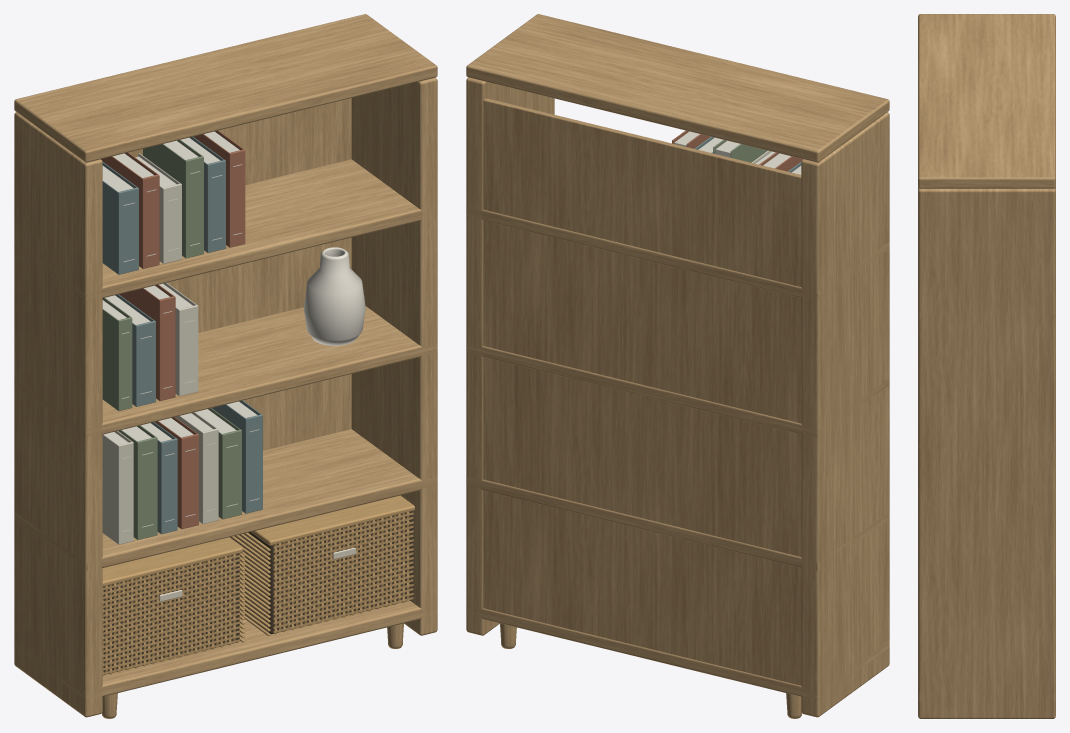
The model's file is home_bookshelf.glb.
3 views of the same model, side by side, from view 1: azimuth 30°, elevation 25°; view 2: azimuth 150°, elevation 25°; view 3: azimuth 270°, elevation 25° (orthographic). The views are drawn at different scales.
Parts seen in each view (by area): view 1: Oak_detail_group, Cane_detail_group, Book_Blue_detail_group, Book_Sage_detail_group, Cavity_detail_group, Book_Rust_detail_group, Book_Cream_detail_group, Warm_Ivory_detail_group, Book_Paper_detail_group; view 2: Oak_detail_group, Book_Paper_detail_group; view 3: Oak_detail_group.
Boxes of the visible parts, x1,y1,x2,y2 form: Oak_detail_group: [14, 14, 437, 718]; Cane_detail_group: [102, 495, 414, 676]; Book_Blue_detail_group: [102, 136, 262, 534]; Book_Sage_detail_group: [102, 139, 241, 539]; Cavity_detail_group: [103, 511, 413, 674]; Book_Rust_detail_group: [101, 130, 245, 529]; Book_Cream_detail_group: [102, 153, 218, 544]; Warm_Ivory_detail_group: [121, 164, 365, 532]; Book_Paper_detail_group: [102, 131, 257, 444]; Oak_detail_group: [466, 14, 889, 718]; Book_Paper_detail_group: [674, 131, 801, 174]; Oak_detail_group: [918, 14, 1055, 718].
Size of the model in its own units: 1.16 by 1.82 by 0.41.
Materials: 10 (3 with a texture image).
